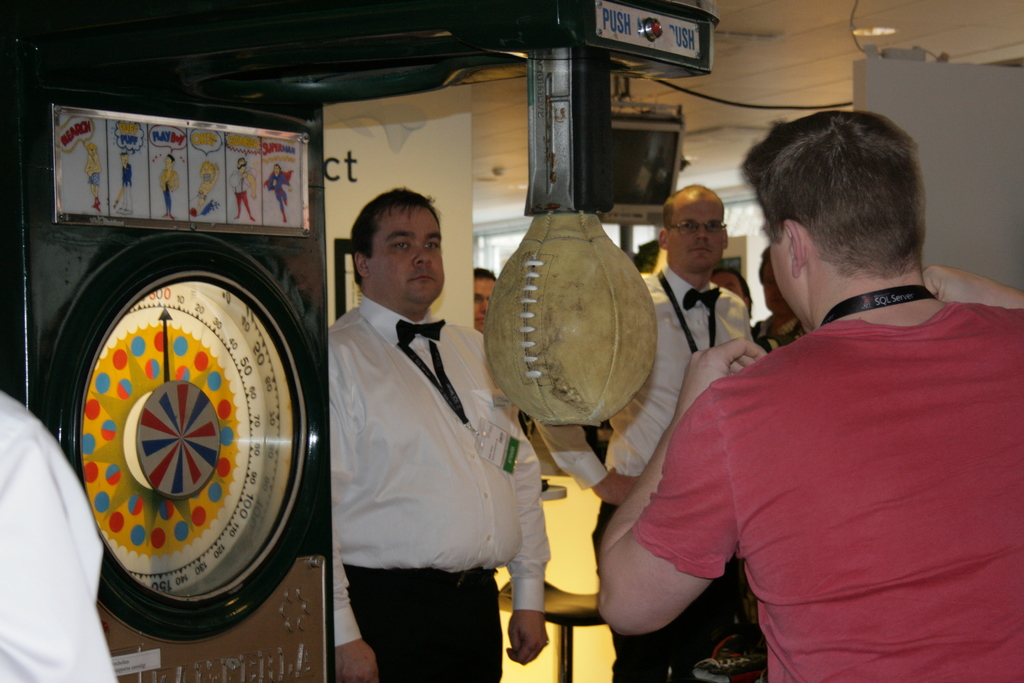Person: (0, 102, 1023, 683)
